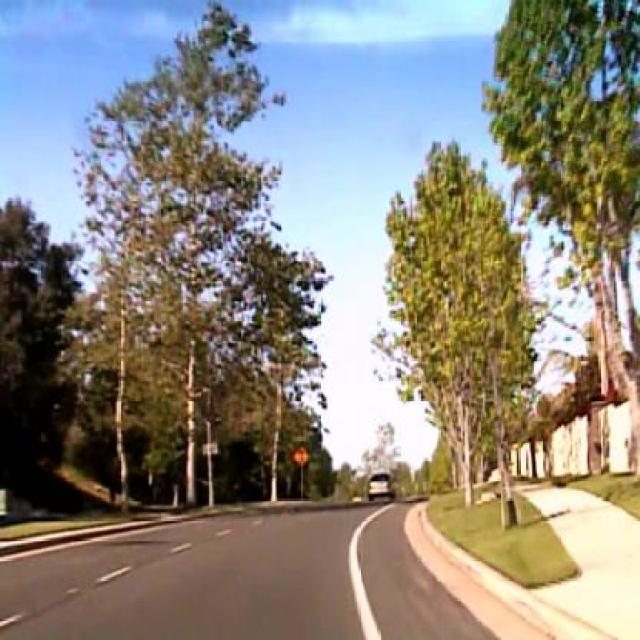signalAhead: (292, 444, 310, 466)
